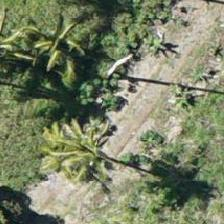Kelapa_Sawit: (46, 96, 136, 186), (14, 0, 104, 89)
